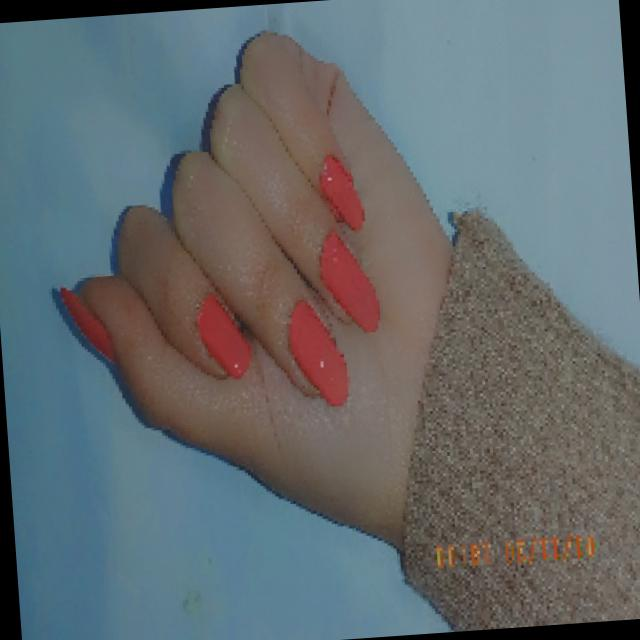Nail: (287, 301, 348, 404), (319, 231, 380, 331), (197, 292, 251, 377), (60, 287, 115, 361), (318, 155, 363, 228)
